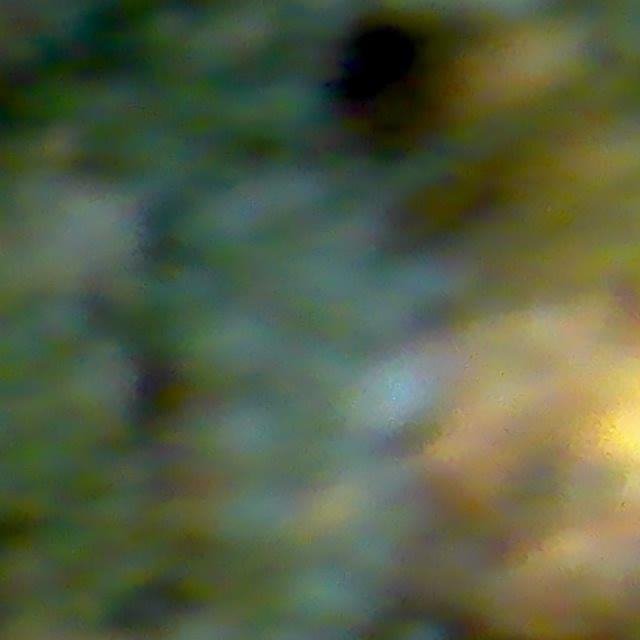SeaGrape: (339, 350, 440, 442), (181, 301, 280, 391), (211, 474, 303, 558), (54, 341, 139, 429), (207, 394, 291, 476), (280, 557, 367, 636)
